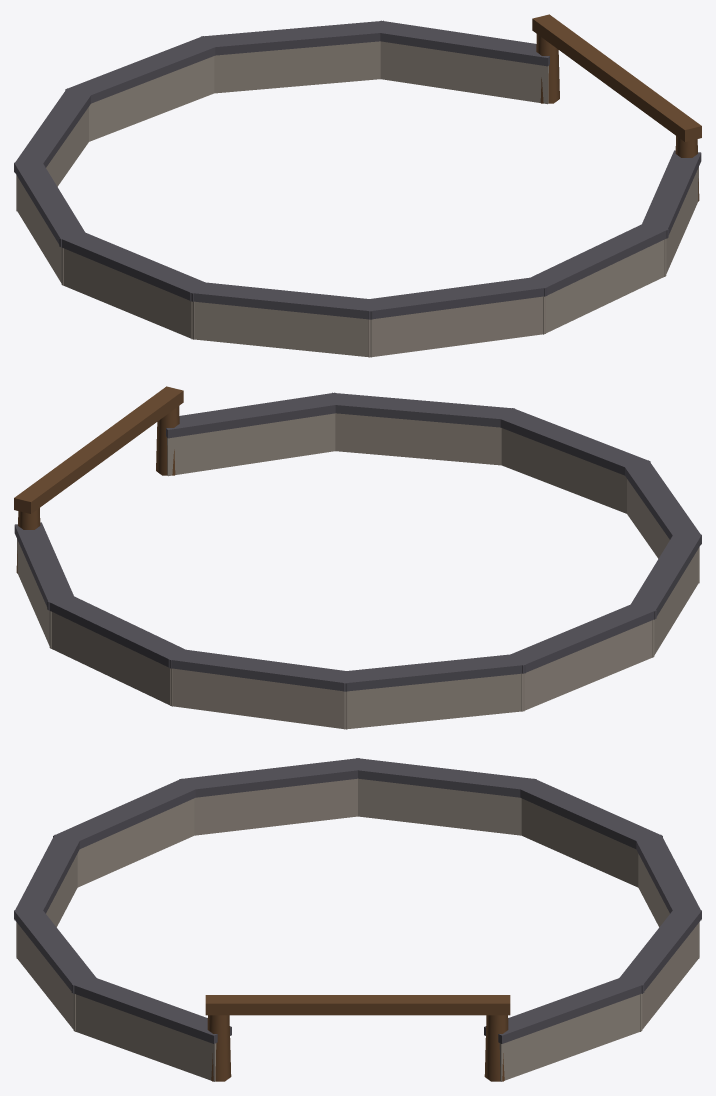
The model's file is base_standard_walls_1.glb.
3 views of the same model, one above another, from view 1: azimuth 30°, elevation 25°; view 2: azimuth 150°, elevation 25°; view 3: azimuth 270°, elevation 25° (orthographic).
Visible parts, largest first — view 1: wall_6, wall_7, wall_0, wall_1, wall_5, wall_2, gate_lintel, wall_8, wall_7_cap, wall_6_cap, wall_1_cap, wall_0_cap (+10 smaller); view 2: wall_3, wall_2, wall_9, wall_8, wall_4, wall_7, gate_lintel, wall_1, wall_2_cap, wall_3_cap, wall_8_cap, wall_9_cap (+10 smaller); view 3: gate_lintel, wall_4, wall_5, wall_0, wall_9, wall_3, wall_6, wall_4_cap, wall_5_cap, wall_0_cap, wall_3_cap, wall_9_cap (+11 smaller).
Part boxes in pixels (left/top/right/bottom): wall_6: left=191, top=301, right=371, bottom=357; wall_7: left=368, top=296, right=545, bottom=357; wall_0: left=380, top=41, right=548, bottom=104; wall_1: left=214, top=41, right=380, bottom=93; wall_5: left=61, top=247, right=194, bottom=339; wall_2: left=89, top=56, right=214, bottom=141; gate_lintel: left=532, top=14, right=701, bottom=141; wall_8: left=543, top=239, right=666, bottom=334; wall_7_cap: left=361, top=276, right=547, bottom=319; wall_6_cap: left=190, top=282, right=377, bottom=319; wall_1_cap: left=201, top=20, right=387, bottom=55; wall_0_cap: left=372, top=20, right=549, bottom=66; wall_3: left=344, top=673, right=524, bottom=729; wall_2: left=170, top=668, right=347, bottom=729; wall_9: left=167, top=413, right=335, bottom=476; wall_8: left=335, top=413, right=501, bottom=465; wall_4: left=521, top=619, right=654, bottom=711; wall_7: left=501, top=428, right=626, bottom=513; gate_lintel: left=14, top=386, right=183, bottom=513; wall_1: left=49, top=611, right=172, bottom=706; wall_2_cap: left=168, top=648, right=354, bottom=691; wall_3_cap: left=343, top=654, right=525, bottom=691; wall_8_cap: left=326, top=392, right=514, bottom=427; wall_9_cap: left=166, top=392, right=343, bottom=438; gate_lintel: left=205, top=995, right=510, bottom=1015; wall_4: left=358, top=778, right=521, bottom=835; wall_5: left=194, top=778, right=357, bottom=835; wall_0: left=499, top=993, right=642, bottom=1081; wall_9: left=73, top=993, right=216, bottom=1081; wall_3: left=521, top=798, right=638, bottom=887; wall_6: left=77, top=798, right=194, bottom=887; wall_4_cap: left=349, top=758, right=536, bottom=797; wall_5_cap: left=179, top=758, right=365, bottom=797; wall_0_cap: left=484, top=975, right=644, bottom=1043; wall_3_cap: left=514, top=778, right=662, bottom=848; wall_9_cap: left=71, top=977, right=231, bottom=1043.
Bounding box in the file's own units: 0.9971 × 0.13 × 1.04.
